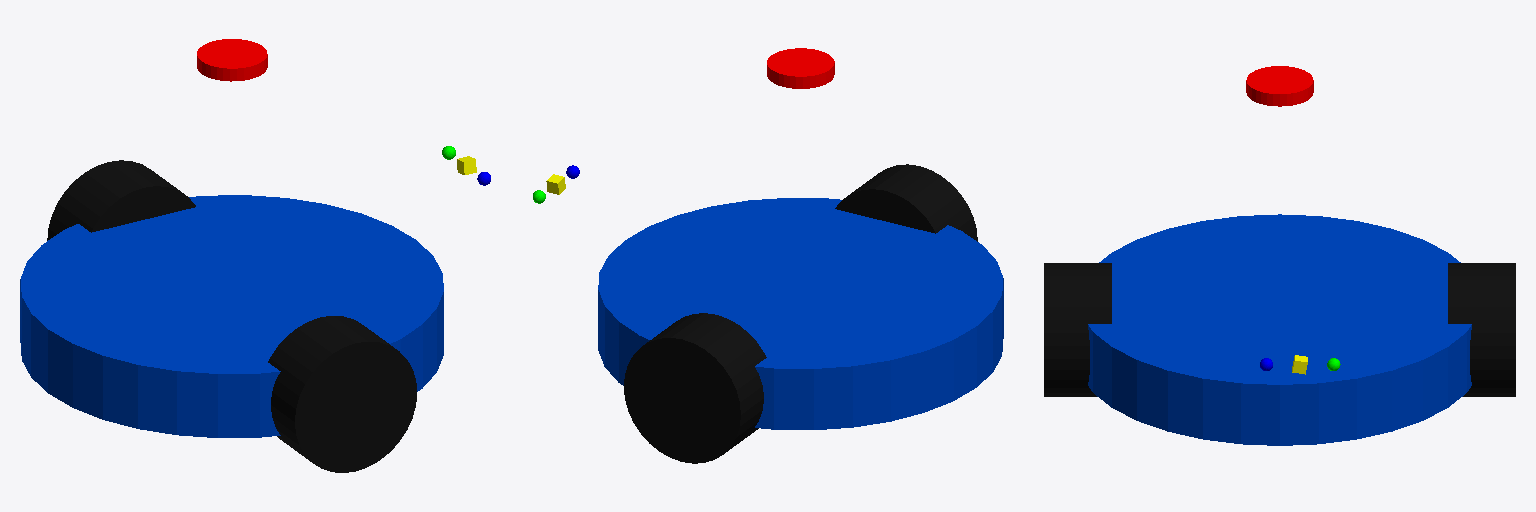
URDF robot description (diff_drive_robot):
<?xml version="1.0"?>
<robot name="diff_drive_robot">

  <!-- ========================= -->
  <!--       BASE LINK           -->
  <!-- ========================= -->
  <link name="base_link">
    <visual>
      <geometry>
        <cylinder radius="0.3" length="0.1"/>
      </geometry>
      <origin xyz="0 0 0" rpy="0 0 0"/>
      <material name="blue">
        <color rgba="0.0 0.3 0.8 1.0"/>
      </material>
    </visual>

    <collision>
      <geometry>
        <cylinder radius="0.3" length="0.1"/>
      </geometry>
    </collision>

    <inertial>
      <mass value="10"/>
      <origin xyz="0 0 0" rpy="0 0 0"/>
      <inertia ixx="0.2" iyy="0.2" izz="0.2"
               ixy="0" ixz="0" iyz="0"/>
    </inertial>
  </link>

  <!-- ========================= -->
  <!--       LEFT WHEEL          -->
  <!-- ========================= -->
  <link name="left_wheel_link">
    <visual>
      <geometry>
        <cylinder radius="0.1" length="0.1"/>
      </geometry>
      <origin xyz="0 0 0" rpy="1.5708 0 0"/>
      <material name="black">
        <color rgba="0.1 0.1 0.1 1.0"/>
      </material>
    </visual>

    <collision>
      <geometry>
        <cylinder radius="0.1" length="0.1"/>
      </geometry>
      <origin xyz="0 0 0" rpy="1.5708 0 0"/>
    </collision>

    <inertial>
      <mass value="1"/>
      <origin xyz="0 0 0" rpy="0 0 0"/>
      <inertia ixx="0.01" iyy="0.01" izz="0.01"
               ixy="0" ixz="0" iyz="0"/>
    </inertial>
  </link>
  
  <!-- Add surface properties for friction/grip -->
  <gazebo reference="left_wheel_link">
    <material>Gazebo/Grey</material>
    <surface>
      <friction>
        <ode>
          <!-- Friction coefficient (mu=1.0 is high friction) -->
          <mu>1.0</mu>
          <mu2>1.0</mu2>
        </ode>
      </friction>
    </surface>
  </gazebo>


  <!-- ========================= -->
  <!--     RIGHT WHEEL           -->
  <!-- ========================= -->
  <link name="right_wheel_link">
    <visual>
      <geometry>
        <cylinder radius="0.1" length="0.1"/>
      </geometry>
      <origin xyz="0 0 0" rpy="1.5708 0 0"/>
      <material name="black">
        <color rgba="0.1 0.1 0.1 1.0"/>
      </material>
    </visual>

    <collision>
      <geometry>
        <cylinder radius="0.1" length="0.1"/>
      </geometry>
      <origin xyz="0 0 0" rpy="1.5708 0 0"/>
    </collision>

    <inertial>
      <mass value="1"/>
      <origin xyz="0 0 0" rpy="0 0 0"/>
      <inertia ixx="0.01" iyy="0.01" izz="0.01"
               ixy="0" ixz="0" iyz="0"/>
    </inertial>
  </link>

  <!-- Add surface properties for friction/grip -->
  <gazebo reference="right_wheel_link">
    <material>Gazebo/Grey</material>
    <surface>
      <friction>
        <ode>
          <!-- Friction coefficient (mu=1.0 is high friction) -->
          <mu>1.0</mu>
          <mu2>1.0</mu2>
        </ode>
      </friction>
    </surface>
  </gazebo>


  <!-- ========================= -->
  <!--     LEFT WHEEL JOINT      -->
  <!-- ========================= -->
  <joint name="left_wheel_joint" type="revolute">
    <parent link="base_link"/>
    <child link="left_wheel_link"/>
    <origin xyz="0 0.3 0" rpy="0 0 0"/>
    <axis xyz="0 1 0"/>
    <!-- Increased effort limit for better movement -->
    <limit lower="-1000" upper="1000" effort="100" velocity="10"/>
  </joint>

  <!-- ========================= -->
  <!--     RIGHT WHEEL JOINT     -->
  <!-- ========================= -->
  <joint name="right_wheel_joint" type="revolute">
    <parent link="base_link"/>
    <child link="right_wheel_link"/>
    <origin xyz="0 -0.3 0" rpy="0 0 0"/>
    <axis xyz="0 1 0"/>
    <!-- Increased effort limit for better movement -->
    <limit lower="-1000" upper="1000" effort="100" velocity="10"/>
  </joint>


  <!-- ============================================== -->
  <!--  GAZEBO PLUGINS: Control, JointState, Sensors  -->
  <!-- ============================================== -->

  <!-- JOINT STATE PUBLISHER (Pulls wheel position from Gazebo to ROS for RViz) -->
  <gazebo>
    <plugin
        filename="gz-sim-joint-state-publisher-system"
        name="gz::sim::systems::JointStatePublisher">
        <topic>joint_states</topic>
        <joint_name>right_wheel_joint</joint_name>
        <joint_name>left_wheel_joint</joint_name>
    </plugin>
  </gazebo>

  <!-- JOINT CONTROLLERS (Applies angular velocity from ROS to Gazebo) -->
  <gazebo>
    <plugin
      filename="gz-sim-joint-controller-system"
      name="gz::sim::systems::JointController">
        <joint_name>left_wheel_joint</joint_name>
        <initial_velocity>0.0</initial_velocity>
        <topic>left_motor_rpm</topic> 
        <!-- FIX 2: Add PID gains to generate the necessary torque -->
        <p_gain>50000</p_gain>
        <i_gain>0.0</i_gain>
        <d_gain>10000</d_gain>
    </plugin>
  </gazebo>
  
  <gazebo>
    <plugin
      filename="gz-sim-joint-controller-system"
      name="gz::sim::systems::JointController">
        <joint_name>right_wheel_joint</joint_name>
        <initial_velocity>0.0</initial_velocity>
        <topic>right_motor_rpm</topic>
        <!-- FIX 2: Add PID gains to generate the necessary torque -->
        <p_gain>50000</p_gain>
        <i_gain>0.0</i_gain>
        <d_gain>10000</d_gain>
    </plugin>
  </gazebo>


  <!-- ========================= -->
  <!--         LIDAR LINK        -->
  <!-- ========================= -->

  <!-- Sensors system plugin (must be loaded once) -->
  <gazebo>
    <plugin
      filename="gz-sim-sensors-system"
      name="gz::sim::systems::Sensors">
      <render_engine>ogre2</render_engine>
    </plugin>
  </gazebo>
  
  <link name="rplidar_c1">
      <inertial>
        <origin xyz="0.0 0.0 0.0" rpy="0.0 0.0 0.0"/>
        <mass value="0.4"/>
        <inertia ixx="1e-4" ixy="0.0" ixz="0.0" iyy="1e-4" iyz="0.0" izz="2e-4"/>
      </inertial>
      <visual name="">
        <origin xyz="0.0 0.0 0.0" rpy="0.0 0.0 0.0"/>
        <geometry>
          <cylinder radius="0.05" length="0.02"/>
        </geometry>
        <material name="rplidar_c1">
          <color rgba="1.0 0.0 0.0 1.0"/>
        </material>
      </visual>
      <collision>
        <origin xyz="0.0 0.0 0.0" rpy="0.0 0.0 0.0"/>
        <geometry>
          <cylinder radius="0.05" length="0.02"/>
        </geometry>
      </collision>
    </link>

    <joint name="rplidar_joint" type="fixed">
      <parent link="base_link"/>
      <child link="rplidar_c1"/>
      <origin xyz="0.0 0.0 0.4" rpy="0.0 0.0 0.0"/>
    </joint>

    <gazebo reference="rplidar_c1">
      <sensor type="gpu_lidar" name="rplidar_c1_sensor">
          <always_on>1</always_on>
          <visualize>true</visualize>
          <update_rate>5</update_rate>
          <topic>/gz_lidar/points</topic>
          <lidar>
              <scan>
                  <horizontal>
                      <samples>720</samples>
                      <resolution>1</resolution>
                      <min_angle>-3.14</min_angle>
                      <max_angle>3.14</max_angle>
                  </horizontal>
                  <vertical>
                      <samples>32</samples>
                      <resolution>1</resolution>
                      <min_angle>-0.5</min_angle>
                      <max_angle>0.5</max_angle>
                  </vertical>
              </scan>
              <range>
                  <min>0.8</min>
                  <max>60.0</max>
                  <resolution>0.01</resolution>
              </range>  
              <noise>
                  <type>gaussian</type>
                  <mean>0.0</mean>
                  <stddev>0.01</stddev>
              </noise>
          </lidar>
      </sensor>
  </gazebo> 



  <!-- ========================= -->
  <!--         IMU/ZED LINKS     -->
  <!-- ========================= -->
  <link name="zed_camera_link">
      <visual>
        <origin xyz="0 -0.1 0" rpy="0 0 1.5708"/>
        <geometry>
          <mesh filename="package://robot_description/src/meshes/zed.STL" scale="0.001 0.001 0.001"/>
        </geometry>
        <material name="zed_camera_link_gray">
          <color rgba="0.5 0.5 0.5 1.0"/>
        </material>
      </visual>
      <collision>
        <origin xyz="0 -0.1 0" rpy="0 0 1.5708"/>
        <geometry>
          <mesh filename="package://robot_description/src/meshes/zed.STL" scale="0.001 0.001 0.001"/>
        </geometry>
      </collision>
      <inertial>
        <mass value="0.5"/>
        <origin xyz="0 0 0" rpy="0 0 0"/>
        <!-- FIX 1: Added missing 'iyz' attribute with value 0.0 -->
        <inertia ixx="1e-4" ixy="0.0" ixz="0.0" iyy="1e-4" iyz="0.0" izz="1e-4"/>
      </inertial>
    </link>

    <link name="zed_imu_link">
      <visual>
        <origin xyz="0 0 0" rpy="0 0 0"/>
        <geometry>
          <box size="0.02 0.02 0.02"/>
        </geometry>
        <material name="imu_frame">
          <color rgba="1.0 1.0 0.0 1.0"/>
        </material>
      </visual>
    </link>

    <link name="zed_left_optical_frame">
      <visual>
        <origin xyz="0 0 0" rpy="0 0 0"/>
        <geometry>
          <sphere radius="0.01"/>
        </geometry>
        <material name="camera_frame">
          <color rgba="0.0 1.0 0.0 1.0"/>
        </material>
      </visual> 
    </link>

    <link name="zed_right_optical_frame">
      <visual>
        <origin xyz="0 0 0" rpy="0 0 0"/>
        <geometry>
          <sphere radius="0.01"/>
        </geometry>
        <material name="camera_frame_right">
          <color rgba="0.0 0.0 1.0 1.0"/>
        </material>
      </visual> 
    </link>

      <gazebo reference="zed_imu_link">
          <sensor name="imu_sensor" type="imu">
              <always_on>1</always_on>
              <update_rate>100</update_rate>
              <visualize>true</visualize>
              <topic>/zed/zed_node/imu/data_raw</topic>
              <frame_id>zed_imu_link</frame_id> 
          </sensor>
      </gazebo>

    <gazebo>
          <plugin filename="libignition-gazebo-imu-system"
              name="ignition::gazebo::systems::Imu">
          </plugin>
    </gazebo>
    
    <joint name="zed_imu_joint" type="fixed">
      <parent link="zed_camera_link"/>
      <child link="zed_imu_link"/>
    <origin xyz="0 0 0.02" rpy="-0.17 0 0"/>
    </joint>
    
    <gazebo reference="zed_camera_link">
      <sensor name="zed2i_rgb" type="camera">
        <always_on>true</always_on>
        <visualize>true</visualize>
        <update_rate>60</update_rate>

        <camera name="zed2i_rgb">
          <horizontal_fov>1.02974</horizontal_fov>
          <image>
            <width>320</width>
            <height>240</height>
            <format>R8G8B8</format>
          </image>
          <clip>
            <near>0.02</near>
            <far>300</far>
          </clip>
          <noise>
            <type>gaussian</type>
            <mean>0.0</mean>
            <stddev>0.007</stddev>
          </noise>

          <camera_info>
            <width>320</width>
            <height>240</height>
            <K>700 0 960 0 700 540 0 0 1</K>
            <D>0 0 0 0 0</D>
            <distortion_model>plumb_bob</distortion_model>
          </camera_info>
          <camera_info_topic>/zed/zed_node/left/camera_info</camera_info_topic>
          <optical_frame_id>zed_left_optical_frame</optical_frame_id>
        </camera>
        <topic>/zed/zed_node/left/image_rect_color</topic>
      </sensor>

      <sensor name="zed2i_rgb_right" type="camera">
        <always_on>true</always_on>
        <visualize>true</visualize>
        <update_rate>60</update_rate>

        <camera name="zed2i_rgb_right">
          <horizontal_fov>1.02974</horizontal_fov>
          <image>
            <width>320</width>
            <height>240</height>
            <format>R8G8B8</format>
          </image>
          <clip>
            <near>0.02</near>
            <far>300</far>
          </clip>
          <noise>
            <type>gaussian</type>
            <mean>0.0</mean>
            <stddev>0.007</stddev>
          </noise>

          <camera_info>
            <width>320</width>
            <height>240</height>
            <K>700 0 960 0 700 540 0 0 1</K>
            <D>0 0 0 0 0</D>
            <distortion_model>plumb_bob</distortion_model>
          </camera_info>
          <camera_info_topic>/zed/zed_node/right/camera_info</camera_info_topic>
          <optical_frame_id>zed_right_optical_frame</optical_frame_id>
        </camera>
        <topic>/zed/zed_node/right/image_rect_color</topic>
      </sensor>

      <sensor name="zed2i_depth" type="depth">
        <always_on>true</always_on>
        <visualize>true</visualize>
        <update_rate>60</update_rate>
        <depth_camera name="zed2i_depth">
          <horizontal_fov>1.02974</horizontal_fov>
          <clip>
            <near>0.02</near>
            <far>40.0</far>
          </clip>
          <noise>
            <type>gaussian</type>
            <mean>0.0</mean>
            <stddev>0.001</stddev>
          </noise>
          <camera_info>
            <width>320</width>
            <height>240</height>
            <K>700 0 960 0 700 540 0 0 1</K>
            <D>0 0 0 0 0</D>
            <distortion_model>plumb_bob</distortion_model>
          </camera_info>
        </depth_camera>
        <topic>/zed/zed_node/depth/depth_registered</topic>
        <optical_frame_id>zed_left_optical_frame</optical_frame_id>
      </sensor>
    </gazebo>
    

    <joint name="zed_camera_joint" type="fixed">
      <parent link="base_link"/>
      <child link="zed_camera_link"/>
      <origin xyz="0.4 0.03 0.11" rpy="0 0 0"/>
    </joint>

    <joint name="zed_camera_optical_joint" type="fixed">
      <parent link="zed_camera_link"/>
      <child link="zed_left_optical_frame"/>
      <origin xyz="0.0 0.05 0.02" rpy="-1.5708 0 -1.5708"/>
    </joint>

    
    <joint name="zed_camera_right_optical_joint" type="fixed">
      <parent link="zed_camera_link"/>
      <child link="zed_right_optical_frame"/>
      <origin xyz="0 -0.05 0.02" rpy="-1.5708 3.1416 -1.5708"/>
    </joint>

</robot>

--- What the picture shows (computed from the rendered views, not written in the file) ---
Views: 3 orthographic renders of the robot side by side, from view 1: azimuth 30°, elevation 25°; view 2: azimuth 150°, elevation 25°; view 3: azimuth 270°, elevation 25°.
Model diff_drive_robot with 8 links and 7 joints (2 revolute, 5 fixed), rooted at base_link, posed all joints at 0.
Visible links, largest first — view 1: base_link, right_wheel_link, left_wheel_link, rplidar_c1; view 2: base_link, left_wheel_link, right_wheel_link, rplidar_c1; view 3: base_link, left_wheel_link, right_wheel_link, rplidar_c1.
Boxes of the visible links, left/top/right/bottom form: base_link: left=20, top=195, right=443, bottom=437; right_wheel_link: left=268, top=316, right=416, bottom=472; left_wheel_link: left=47, top=160, right=195, bottom=240; rplidar_c1: left=197, top=39, right=267, bottom=81; base_link: left=598, top=198, right=1003, bottom=429; left_wheel_link: left=624, top=313, right=766, bottom=463; right_wheel_link: left=835, top=164, right=977, bottom=241; rplidar_c1: left=767, top=48, right=834, bottom=88; base_link: left=1088, top=214, right=1471, bottom=445; left_wheel_link: left=1448, top=263, right=1515, bottom=396; right_wheel_link: left=1044, top=263, right=1111, bottom=396; rplidar_c1: left=1246, top=66, right=1313, bottom=106.
Bounding box of the posed robot: 0.71 × 0.7 × 0.51 m (x, y, z).
0 mesh visuals loaded from 1 distinct referenced files (none loaded); not drawn: 1 (file found but could not be loaded).